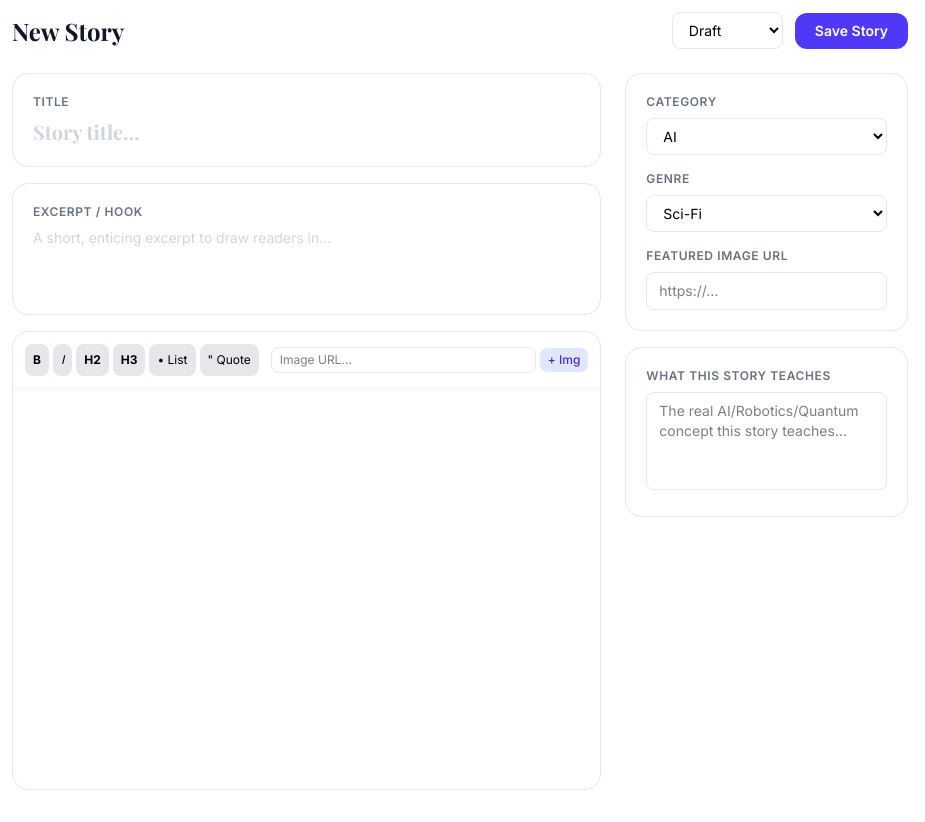
Scenario: StoryEditor › shows a validation message when saving without a title
Click the button "Save Story": (851, 30) [795,12,908,48]
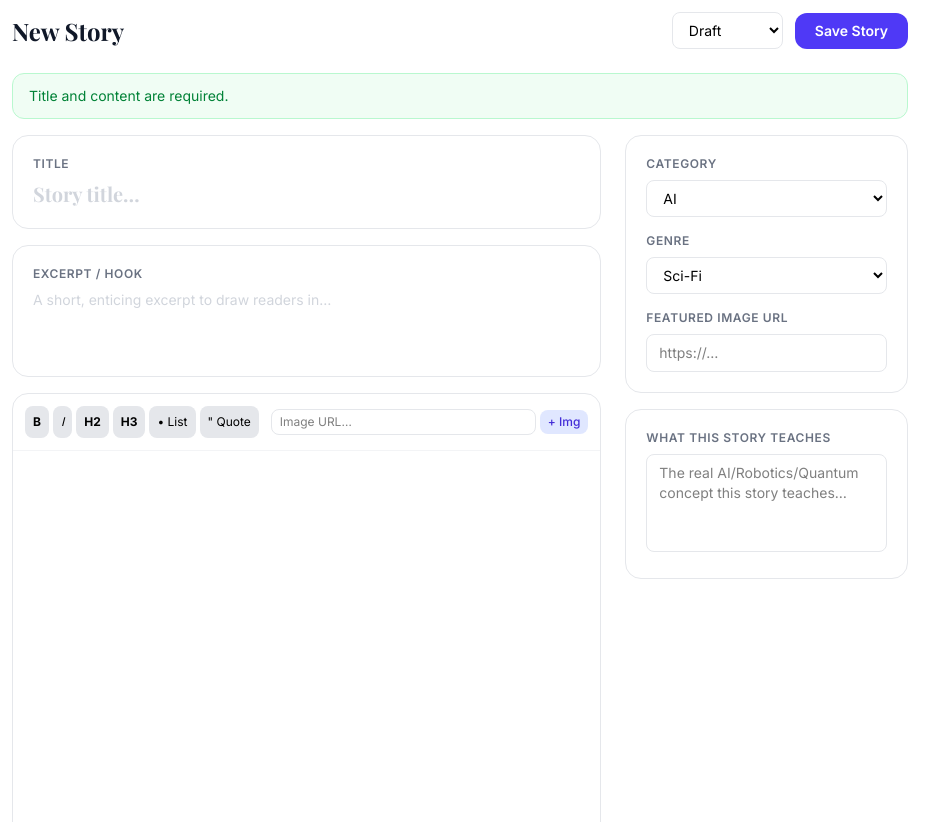
Expected: the text "Title and content are required" is shown, [29,87,228,104]
